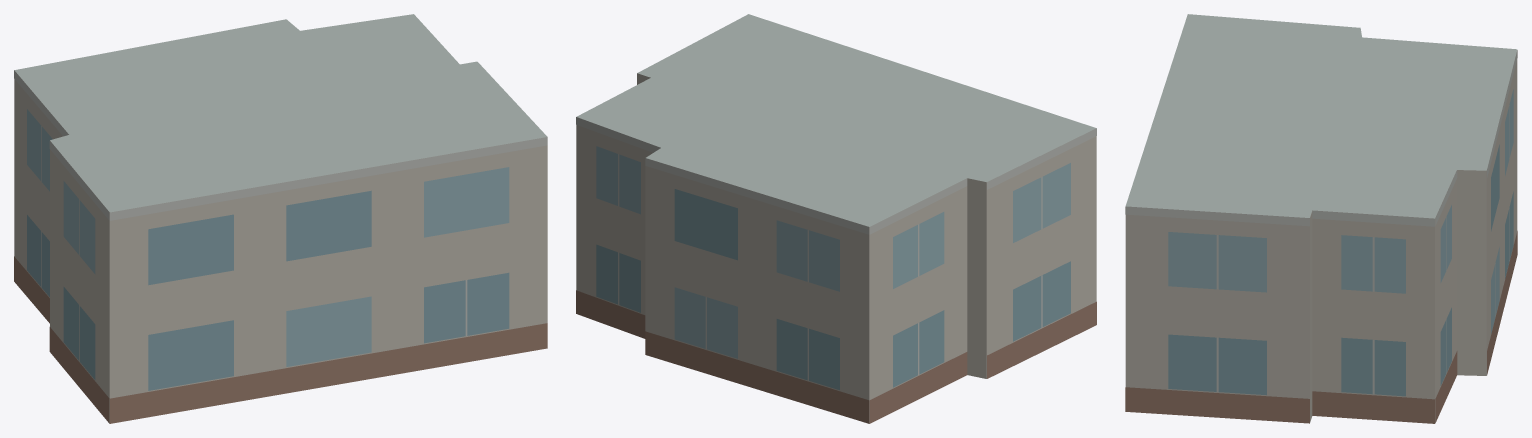
File: survey-upis-32678799.glb
3 renders of one model, left to right at view 1: azimuth 30°, elevation 25°; view 2: azimuth 150°, elevation 25°; view 3: azimuth 270°, elevation 25°, orthographic. The views are drawn at different scales.
Visible parts, largest first — view 1: survey-upis-32678799.tmp; view 2: survey-upis-32678799.tmp; view 3: survey-upis-32678799.tmp.
Part boxes in pixels (box(x1,y1,x2,y2)): survey-upis-32678799.tmp: box(14, 14, 547, 423); survey-upis-32678799.tmp: box(576, 14, 1096, 423); survey-upis-32678799.tmp: box(1125, 14, 1517, 423).
Size of the model in its own units: 13.04 by 6.1 by 10.57.
